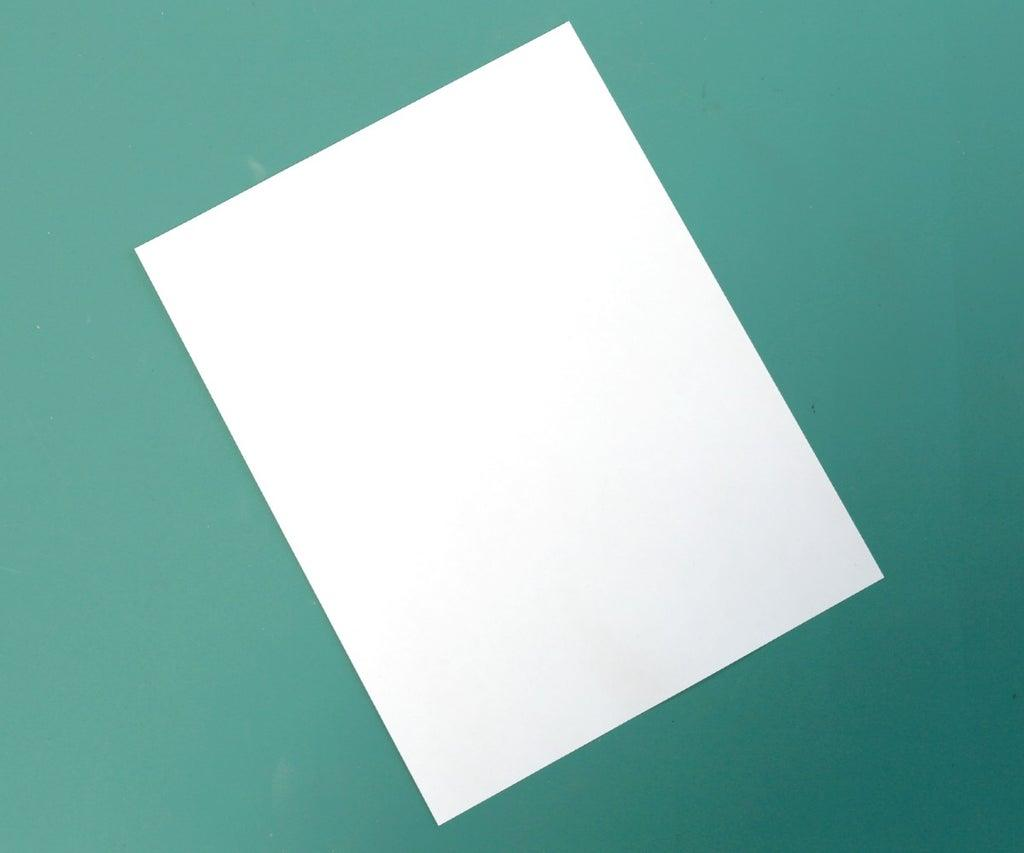paper: (138, 24, 880, 823)
